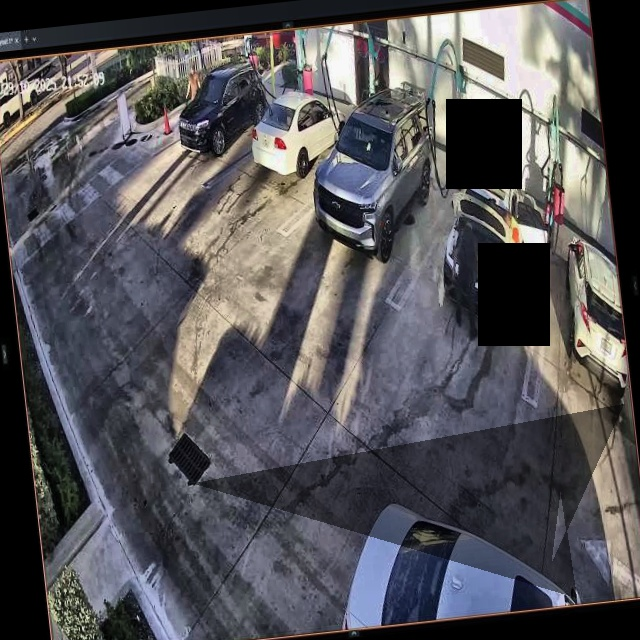Car: (308, 83, 445, 263), (434, 160, 551, 329), (248, 85, 349, 178), (172, 63, 270, 157)
